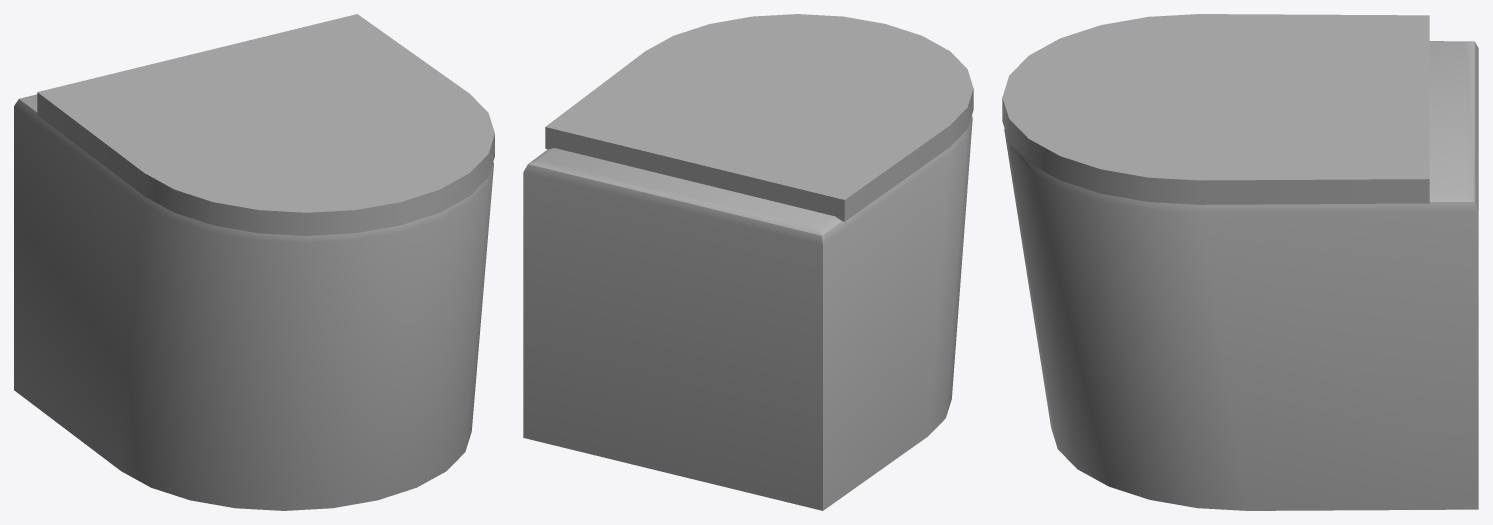
Rendered from Closet2.fbx.
3 renders of one model, left to right at view 1: azimuth 30°, elevation 25°; view 2: azimuth 150°, elevation 25°; view 3: azimuth 270°, elevation 25°, orthographic. The views are drawn at different scales.
Parts seen in each view (by area): view 1: Cylinder.003; view 2: Cylinder.003; view 3: Cylinder.003.
Part boxes in pixels (x1=…): Cylinder.003: x1=14, y1=14, x2=494, y2=510; Cylinder.003: x1=523, y1=14, x2=973, y2=510; Cylinder.003: x1=1002, y1=14, x2=1478, y2=510.
Size of the model in its own units: 64.51 by 59.71 by 77.95.
Materials: 1 (1 with a texture image).
